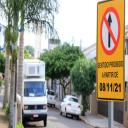NoSeguir: (100, 6, 121, 56)
